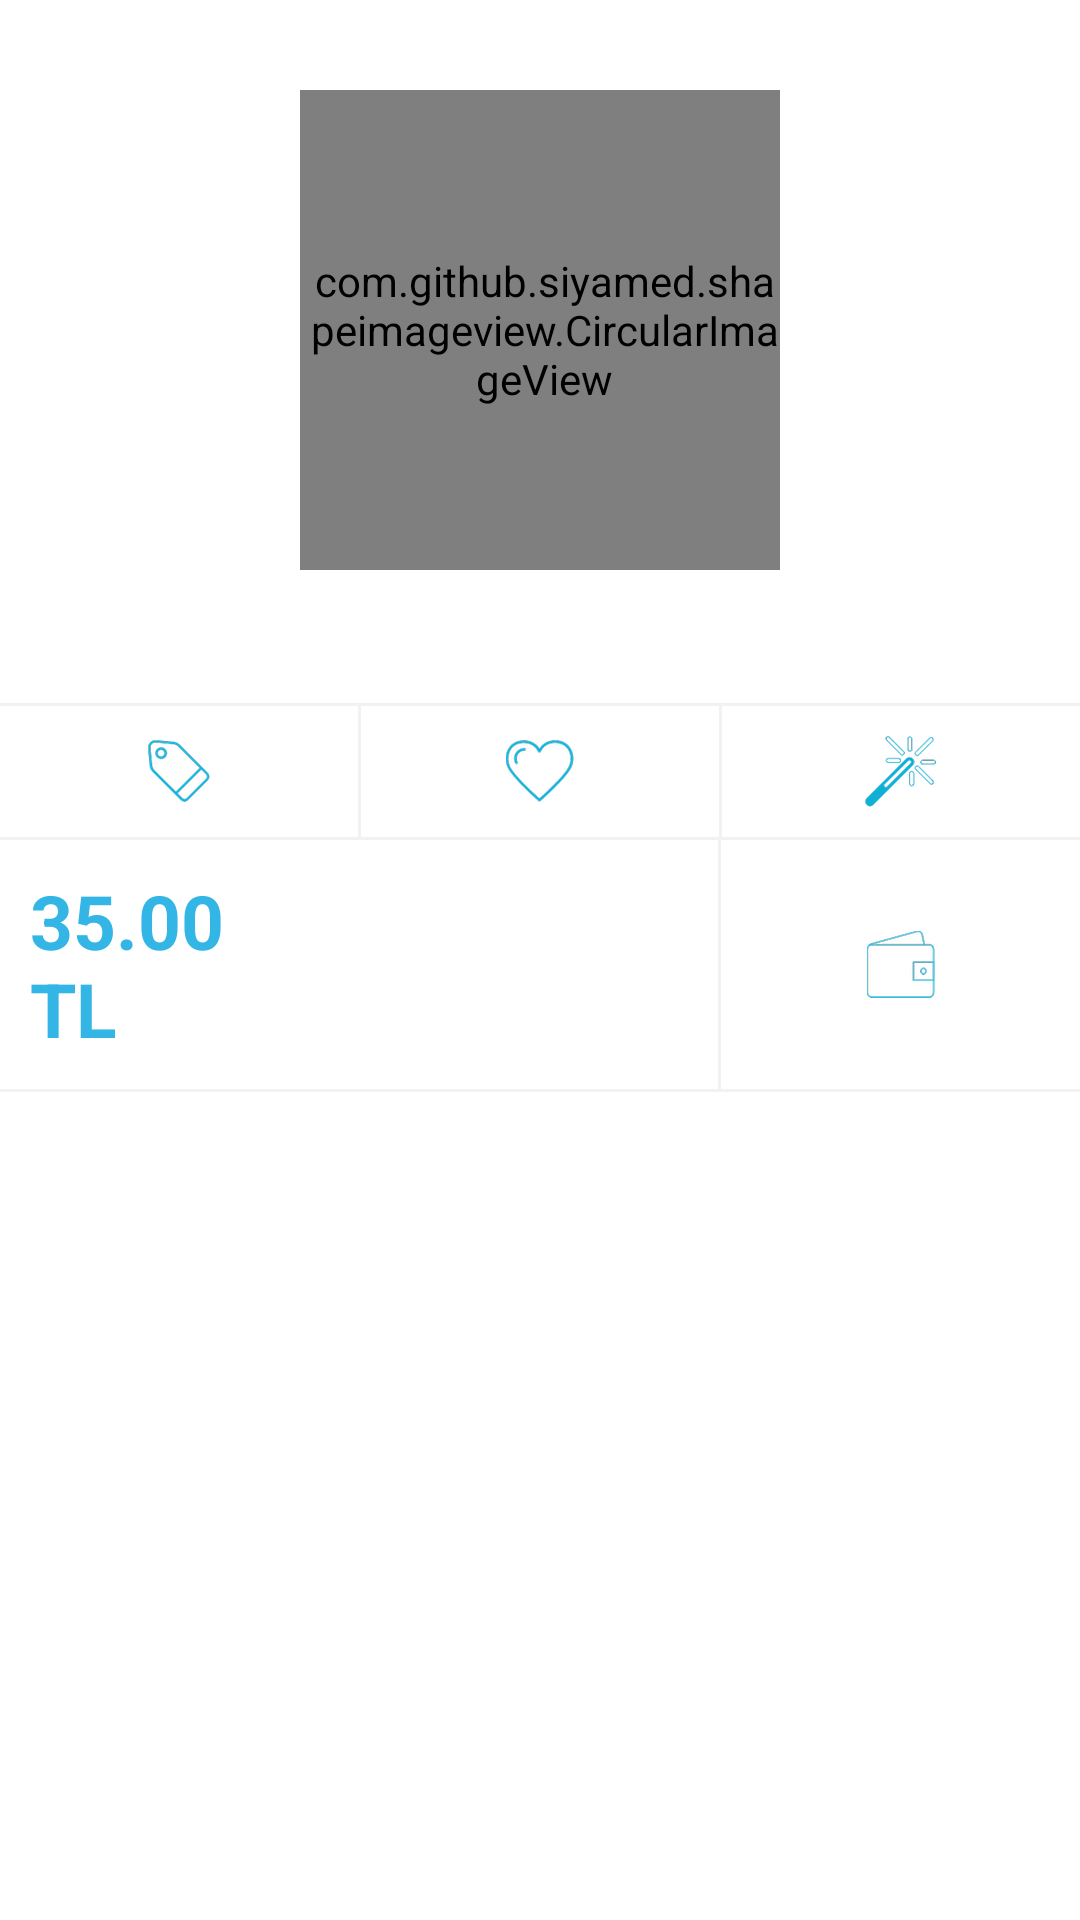

Locate icon controls on the screen. Image size 1080 × 1920, boxes as (x1=x1, y1=y1, x2=x2, y2=y2).
profile etiket: (x1=148, y1=740, x2=210, y2=802)
profile like: (x1=506, y1=740, x2=574, y2=802)
profile wallet: (x1=867, y1=931, x2=935, y2=998)
profile wish: (x1=865, y1=736, x2=936, y2=807)
